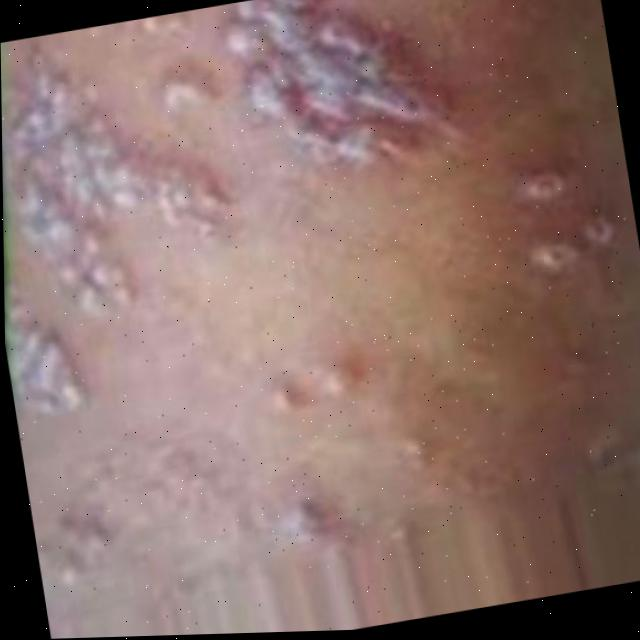Shingles: (0, 16, 255, 356), (214, 0, 472, 197), (513, 152, 625, 287), (4, 284, 94, 433)
